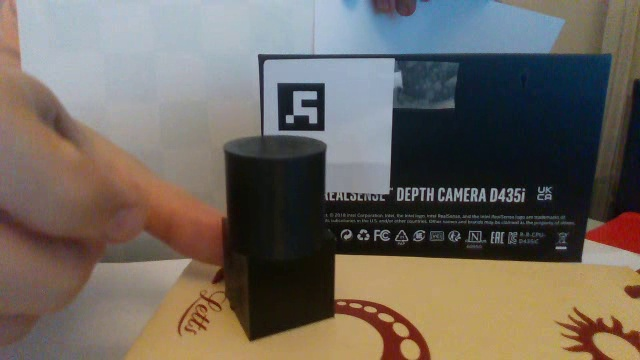cube: (208, 207, 351, 346)
cylindre: (211, 133, 339, 251)
